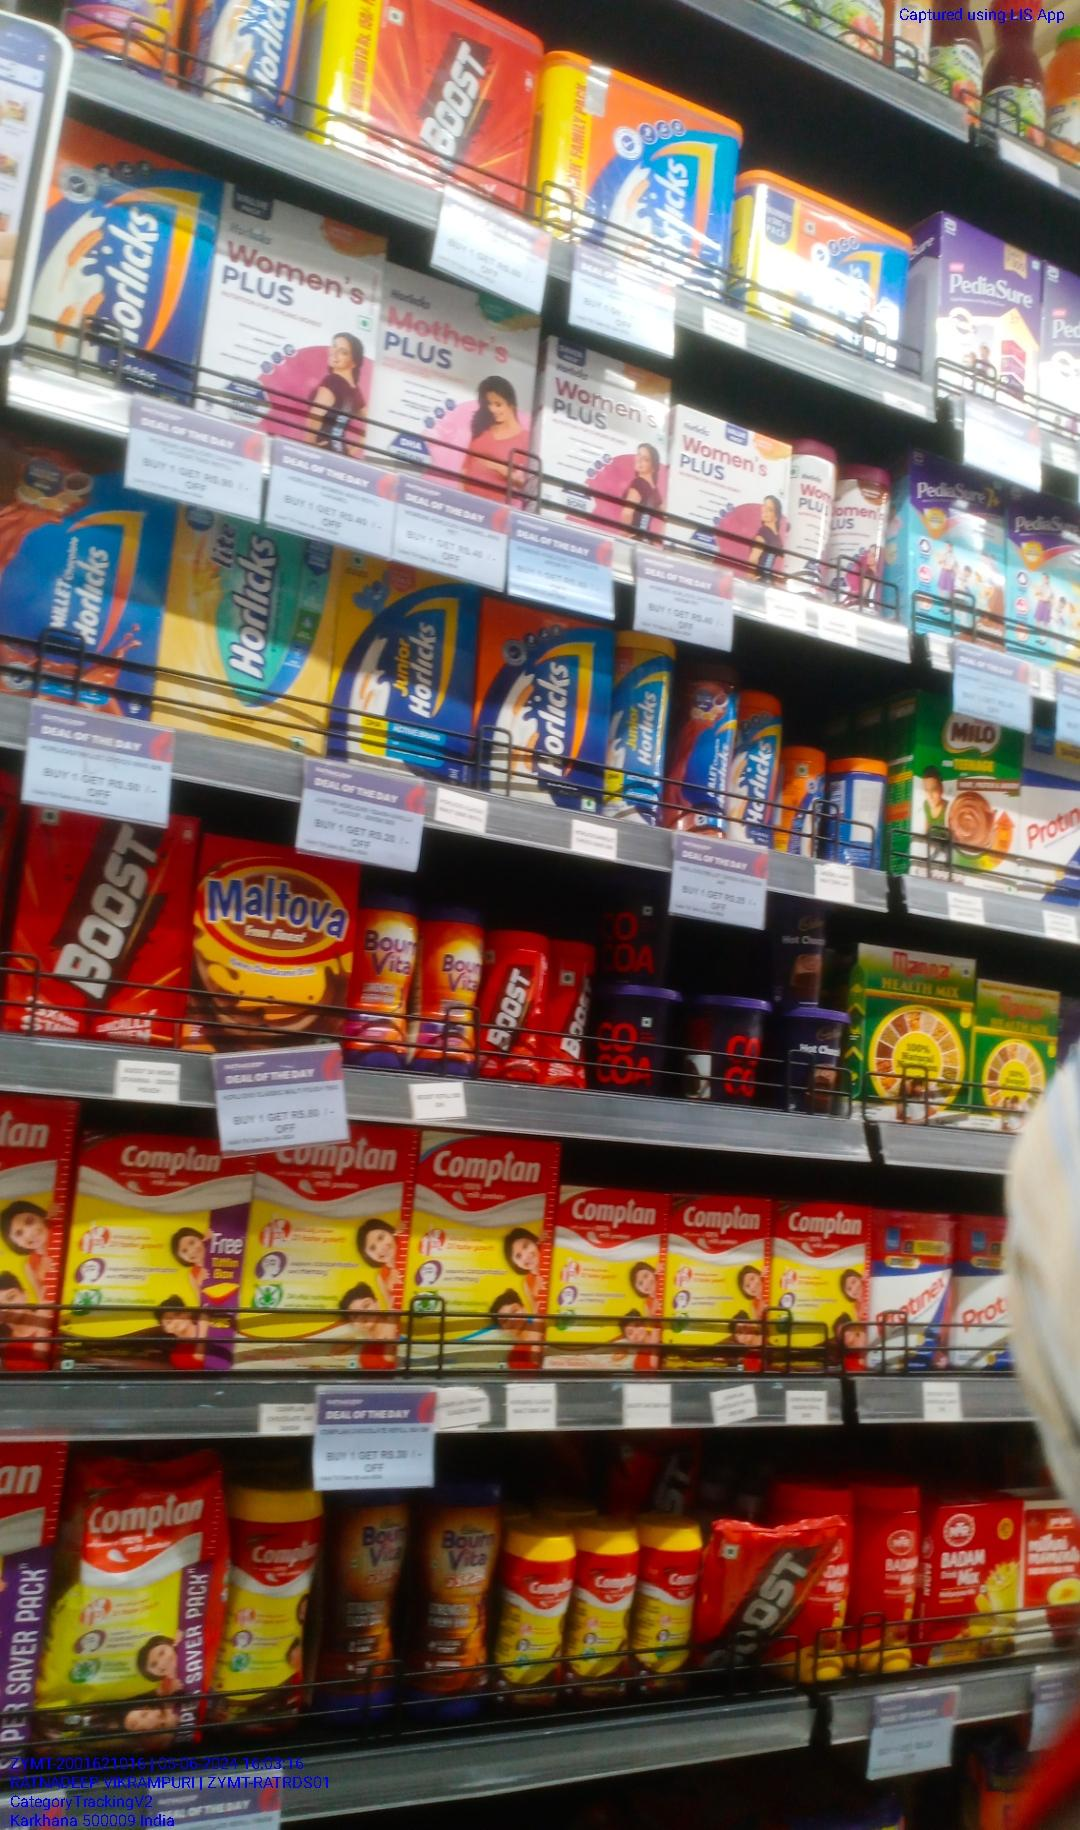BOURN_VITA_200_G_JAR: (350, 897, 413, 1067), (647, 1518, 701, 1699), (419, 906, 476, 1074)
BOURN_VITA_FIVE_STAR_MAGIC_500_G_JAR: (325, 1489, 413, 1740), (419, 1477, 498, 1721)
COMPLAN_CHOCOLATE_200_GMS_JAR: (501, 1525, 572, 1714), (576, 1525, 642, 1707)
COMPLAN_CHOCOLATE_500_GMS_JAR: (224, 1486, 315, 1737)
COMPLAN_CREAMY_CLASSIC_500_G_PACK: (415, 1115, 546, 1370)
COMPLAN_KESAR_BADAM_200_GMS_PACK: (550, 1189, 661, 1371)
COMPLAN_RC_POUCH_700_GMS_12: (46, 1460, 210, 1771)
HORLICK_CLASSIC_MALT_500_G_PACK: (35, 130, 201, 397), (486, 595, 608, 811)
HORLICK_MALT_1_KG_CONTAINER: (540, 71, 748, 240)
PROTINEX_CHOCOLATE_400_G_JAR: (869, 1207, 951, 1367)
